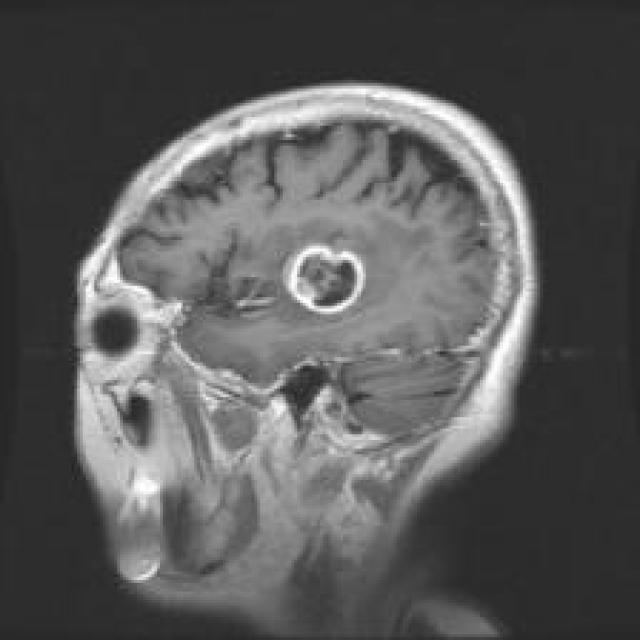glioma_tumor: (283, 221, 375, 333)
